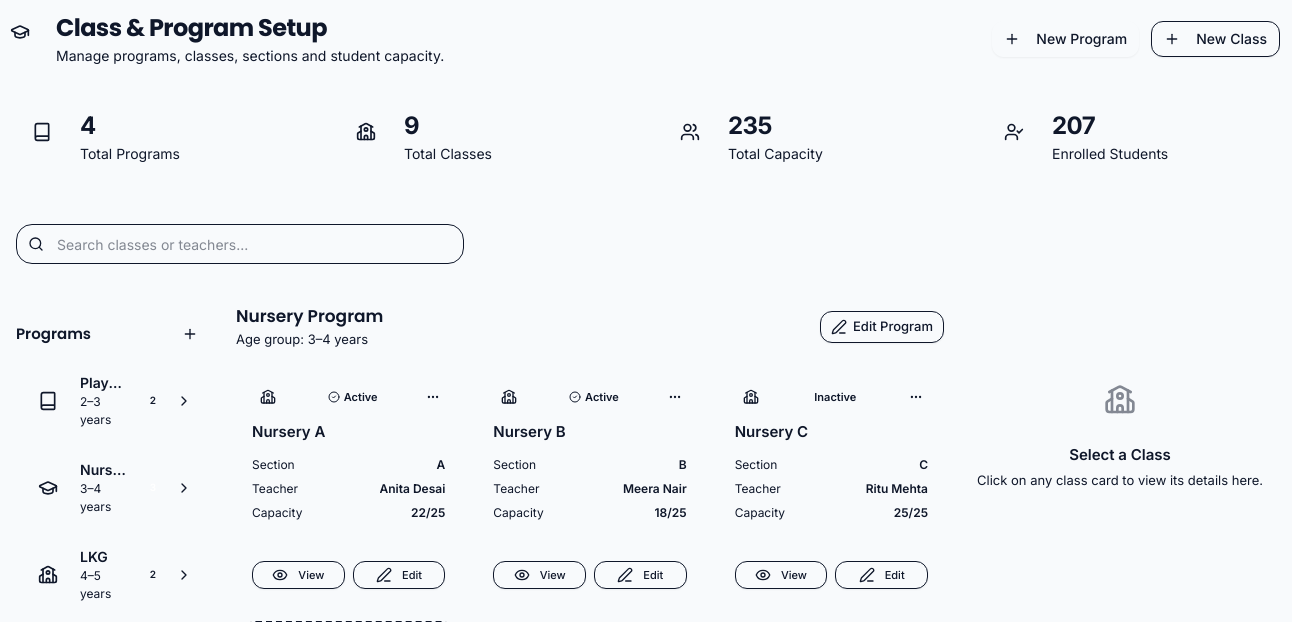
SetupClassesPage › updates class grid when switching programs
Switch to LKG
What coordinates should you click on to do the following:
click the text "LKG"
I would click on:
 (94, 556)
Its box is [80,548,108,565].
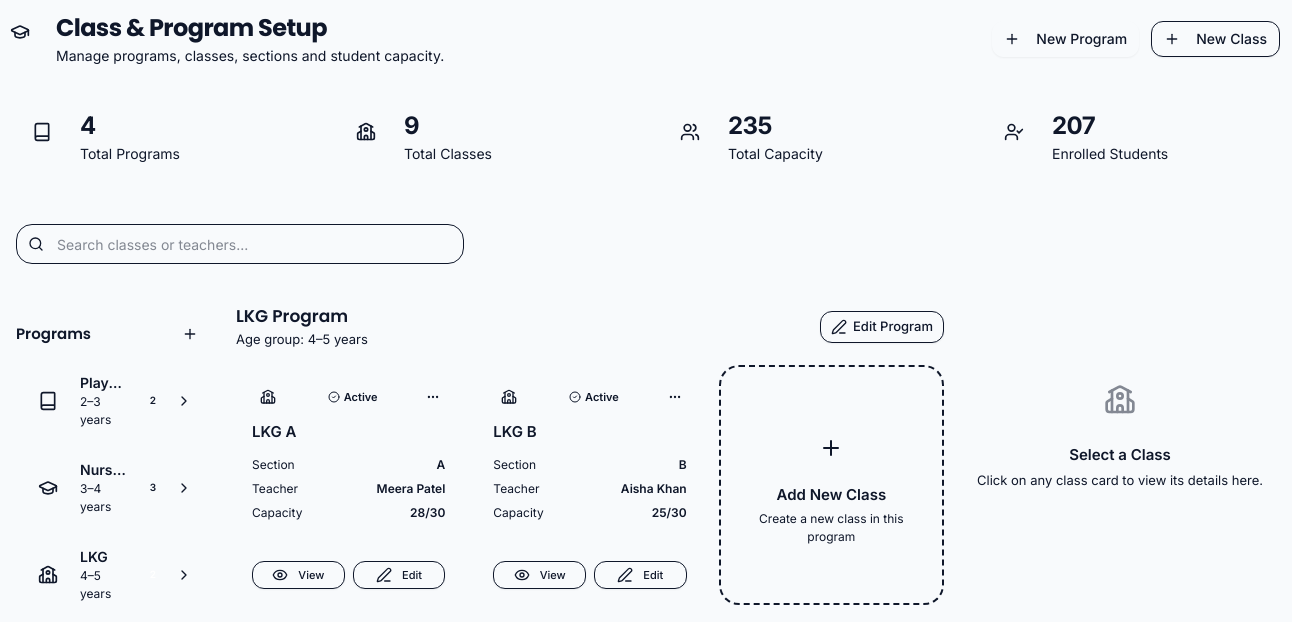
Result: the text "LKG A" is shown at [252,422,296,441]
Result: the text "LKG B" is shown at [493,422,537,441]
